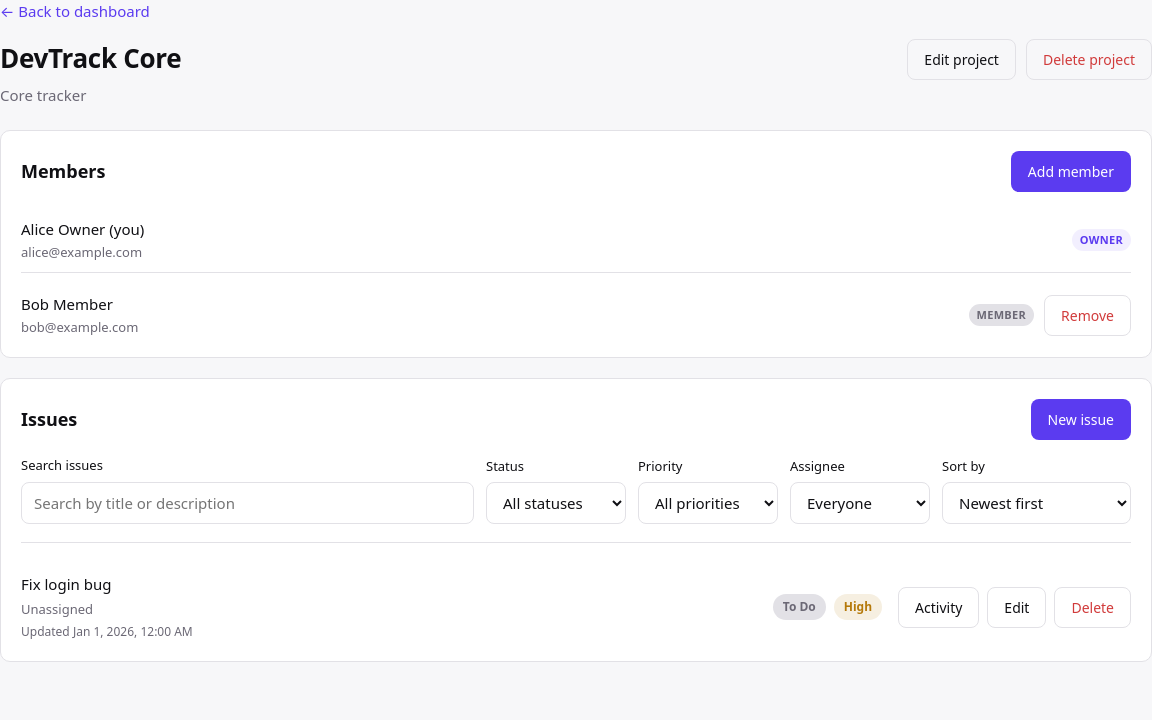
ProjectDetailPage › shows an error state when activity fails to load
Expected: the text "Fix login bug" is shown, [21,574,111,594]
Click the button "Activity": point(939, 607) [898,586,979,628]
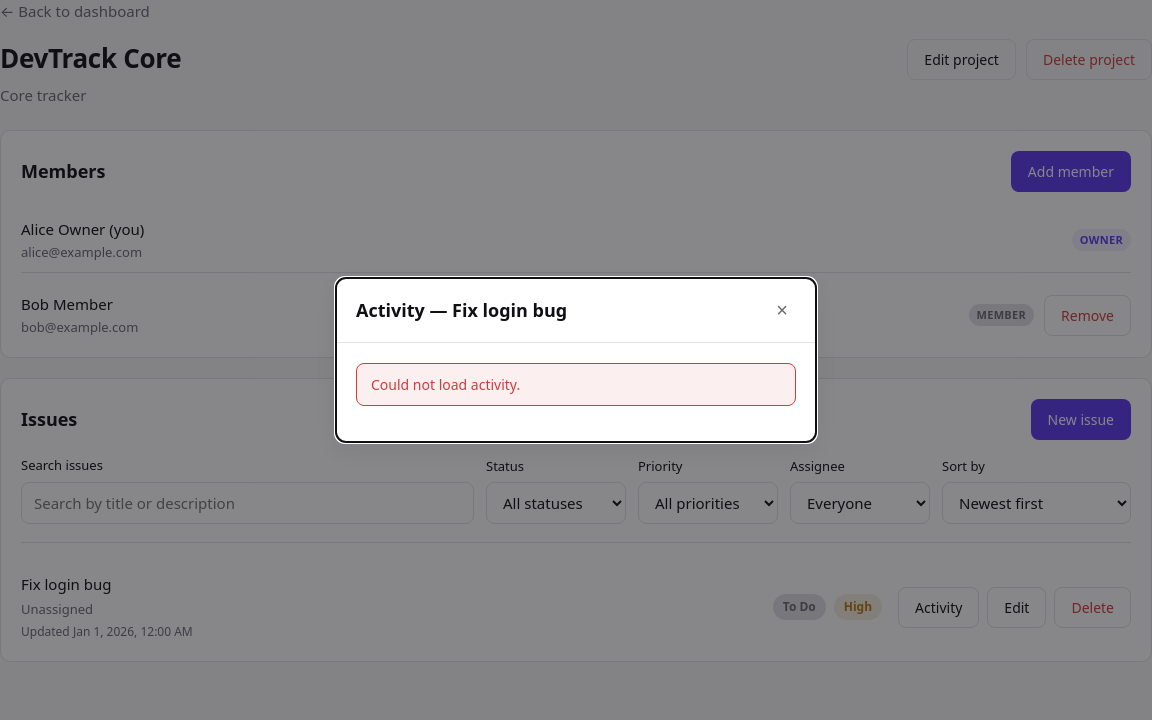
Result: the message "Could not load activity." is shown at [356,363,796,406]
